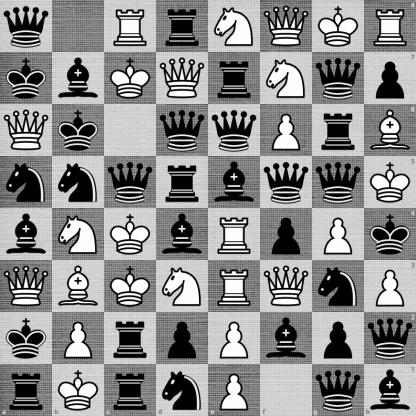B: (364, 104, 416, 156), (53, 261, 104, 312)
K: (364, 156, 416, 209), (52, 364, 104, 416), (105, 53, 156, 104), (105, 209, 156, 260), (105, 261, 156, 312), (313, 1, 364, 52)
N: (53, 209, 104, 260), (157, 261, 208, 312), (209, 1, 260, 52), (261, 53, 312, 104)
P: (364, 260, 416, 312), (209, 364, 260, 416), (53, 313, 104, 364), (209, 313, 260, 364), (261, 105, 312, 156), (313, 209, 364, 260)
Q: (1, 105, 52, 156), (1, 261, 52, 312), (157, 53, 208, 104), (261, 1, 312, 52), (261, 261, 312, 312)
R: (364, 0, 416, 52), (105, 1, 156, 52), (209, 209, 260, 260), (209, 261, 260, 312)
b: (364, 364, 416, 416), (1, 209, 52, 260), (53, 53, 104, 104), (157, 209, 208, 260), (209, 157, 260, 208), (261, 313, 312, 364)
board: (0, 0, 415, 415)
k: (364, 209, 416, 260), (1, 53, 52, 104), (1, 313, 52, 364), (53, 105, 104, 156)
n: (156, 364, 209, 416), (1, 157, 52, 208), (53, 157, 104, 208), (313, 261, 364, 312)
p: (364, 52, 416, 104), (157, 313, 208, 364), (261, 209, 312, 260), (313, 313, 364, 364)
q: (312, 364, 364, 416), (364, 312, 416, 364), (1, 1, 52, 52), (105, 157, 156, 208), (157, 105, 208, 156), (209, 105, 260, 156), (261, 157, 312, 208), (313, 53, 364, 104), (313, 157, 364, 208)
r: (0, 364, 52, 416), (104, 364, 156, 416), (105, 313, 156, 364), (157, 1, 208, 52), (157, 157, 208, 208), (209, 53, 260, 104), (313, 105, 364, 156)
